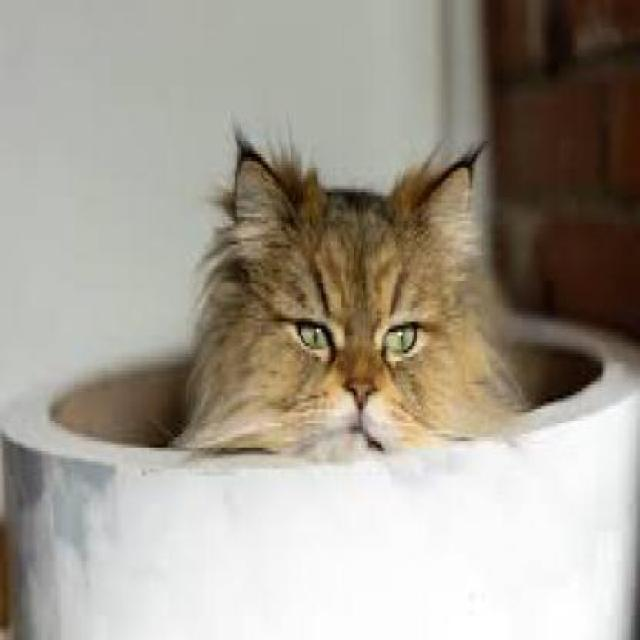cat: (173, 129, 542, 463)
